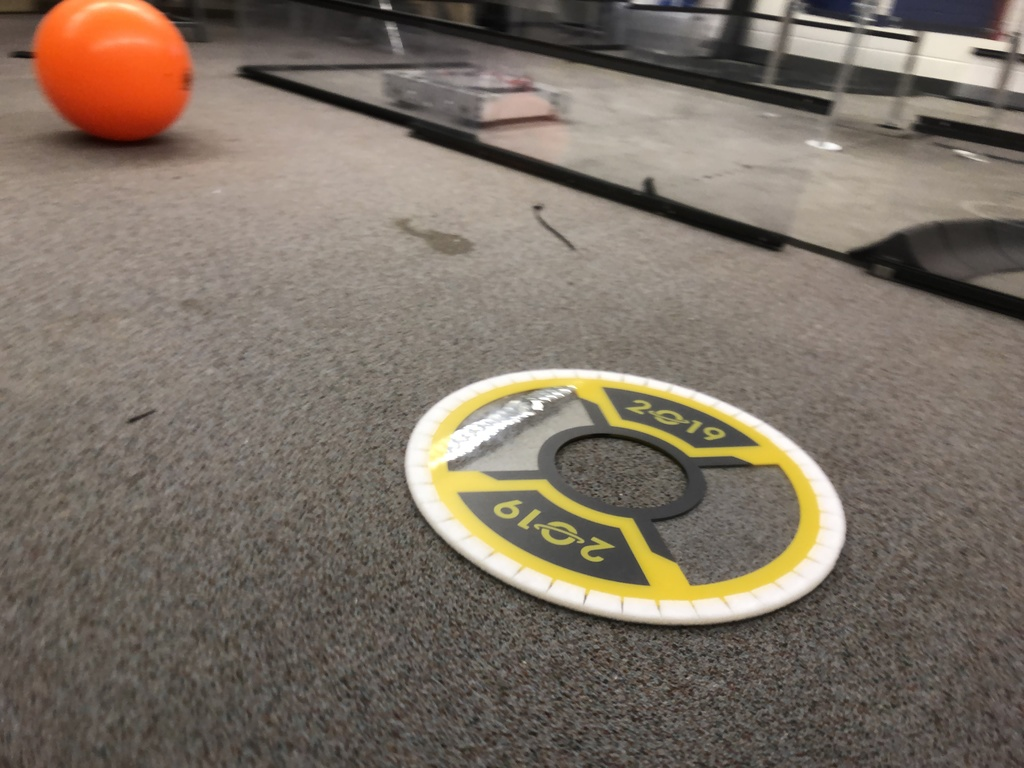hatch_panel: (379, 356, 877, 636)
